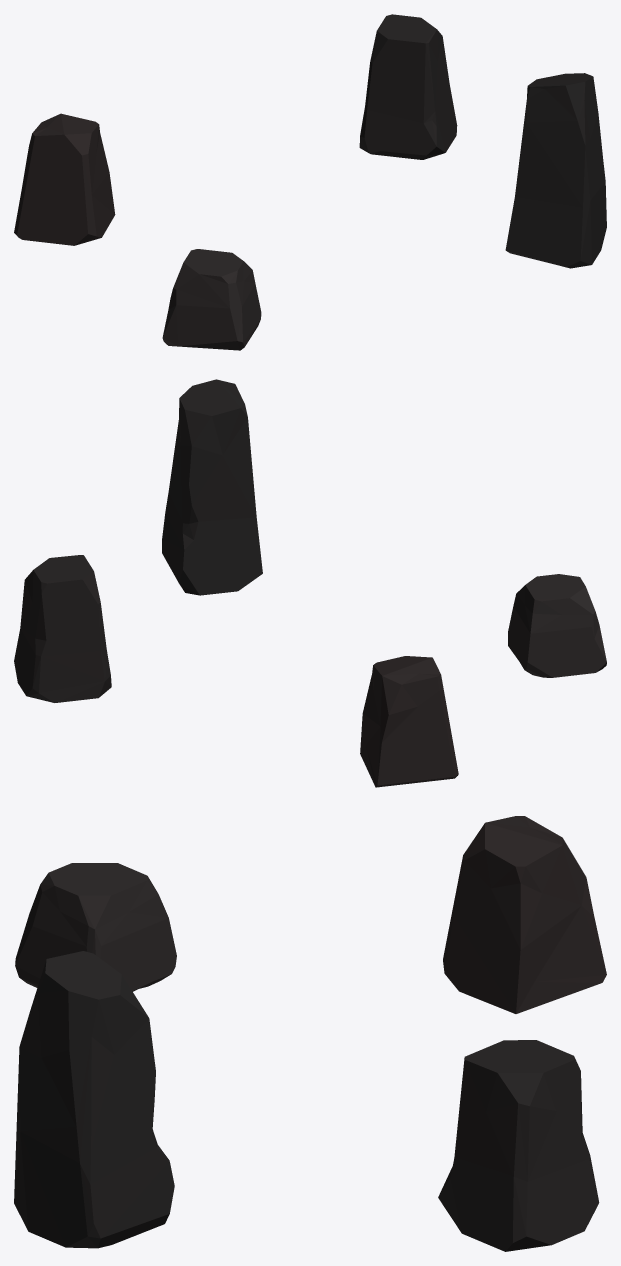
Rendered from Portal_02.FBX.
The picture shows the model from 3 angles, top to bottom: view 1: azimuth 30°, elevation 25°; view 2: azimuth 150°, elevation 25°; view 3: azimuth 270°, elevation 25°; orthographic projection. The views are drawn at different scales.
Visible parts, largest first — view 1: Portal_02; view 2: Portal_02; view 3: Portal_02.
Part boxes in pixels (x1=…): Portal_02: x1=14, y1=14, x2=606, y2=350; Portal_02: x1=14, y1=379, x2=606, y2=787; Portal_02: x1=14, y1=816, x2=606, y2=1251.
Bounding box in the file's own units: 4.67 × 1.81 × 3.76.
